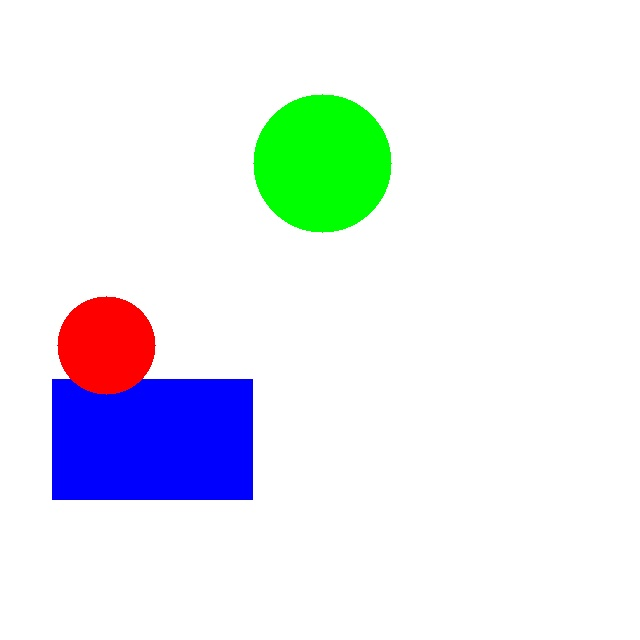cartao: (52, 379, 252, 499)
rosca_externa: (253, 94, 391, 232)
rosca_interna: (57, 296, 155, 394)
